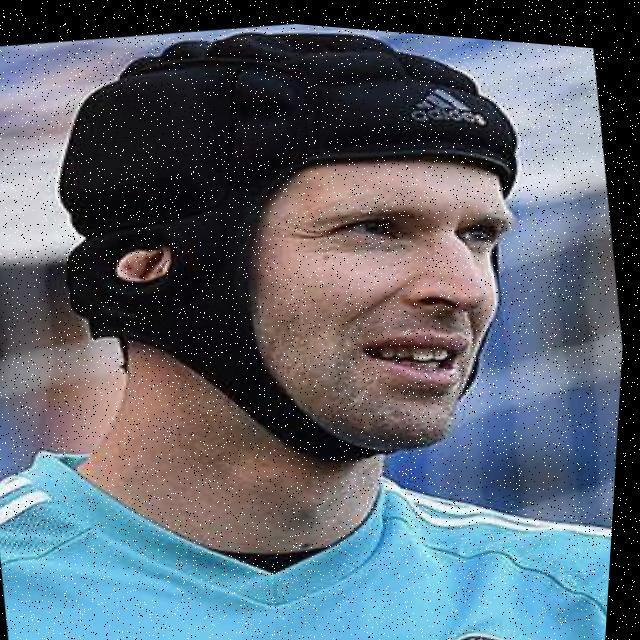illegal_helmet: (11, 2, 582, 516)
